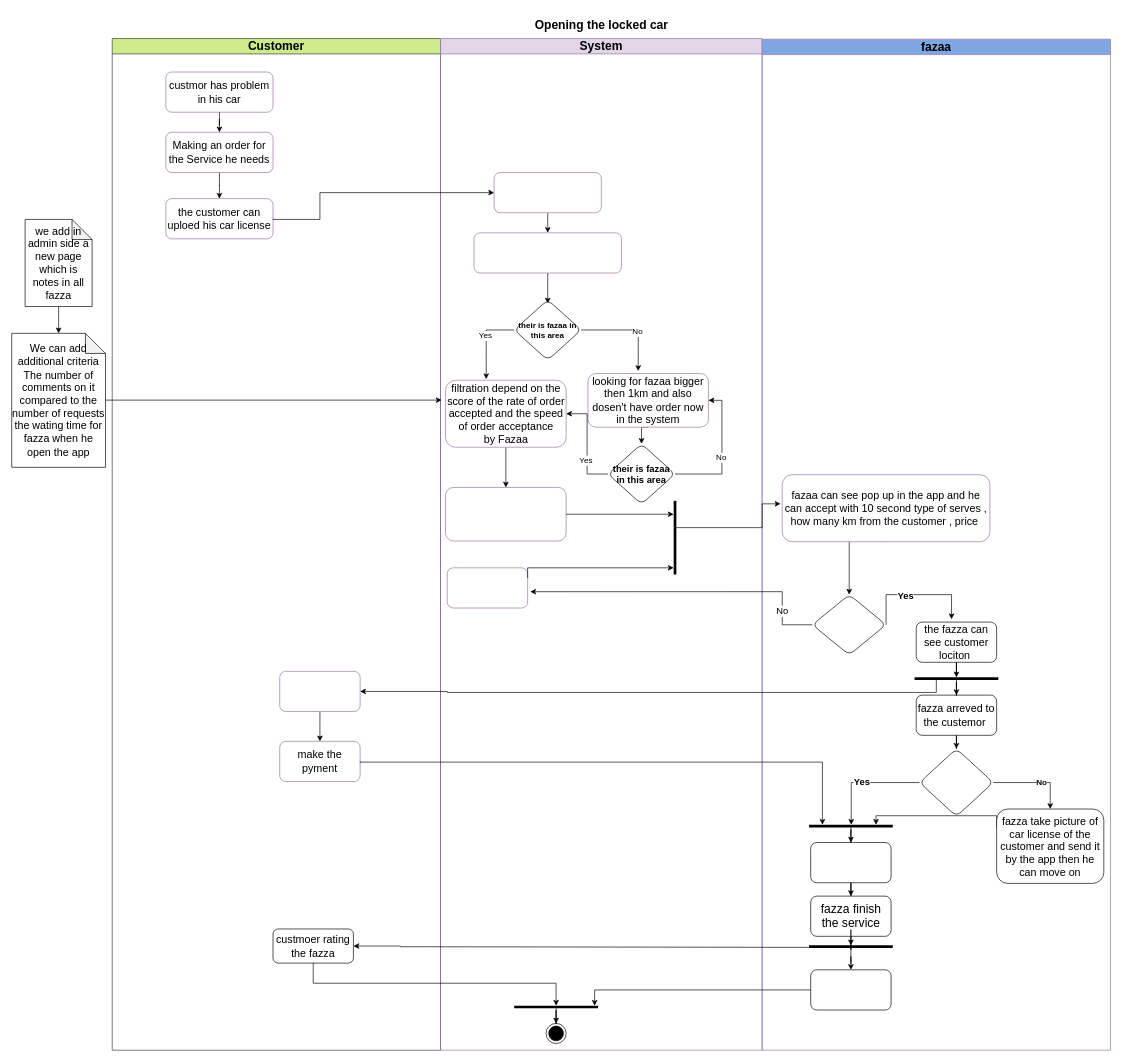
This 1122x1062 diagram has some shape labels left out. Here are the shapes that lost their labels. From the top down, the centre of each, then its label:
At pixel 547 192: "create new order in the system".
At pixel 547 252: "looking for fazaa Within 1 km also dosen't have order now in the system".
At pixel 505 514: "assign to fazaa by the criteria acceptance order rate ,acceptance speed rate".
At pixel 487 587: "assign to new fazza".
At pixel 849 624: "accept the order".
At pixel 319 691: "he can see massege fazaa in the way".
At pixel 956 782: "custmoer uploed his car license".
At pixel 850 862: "fazza do the service".
At pixel 850 989: "fazza rate the customer".
